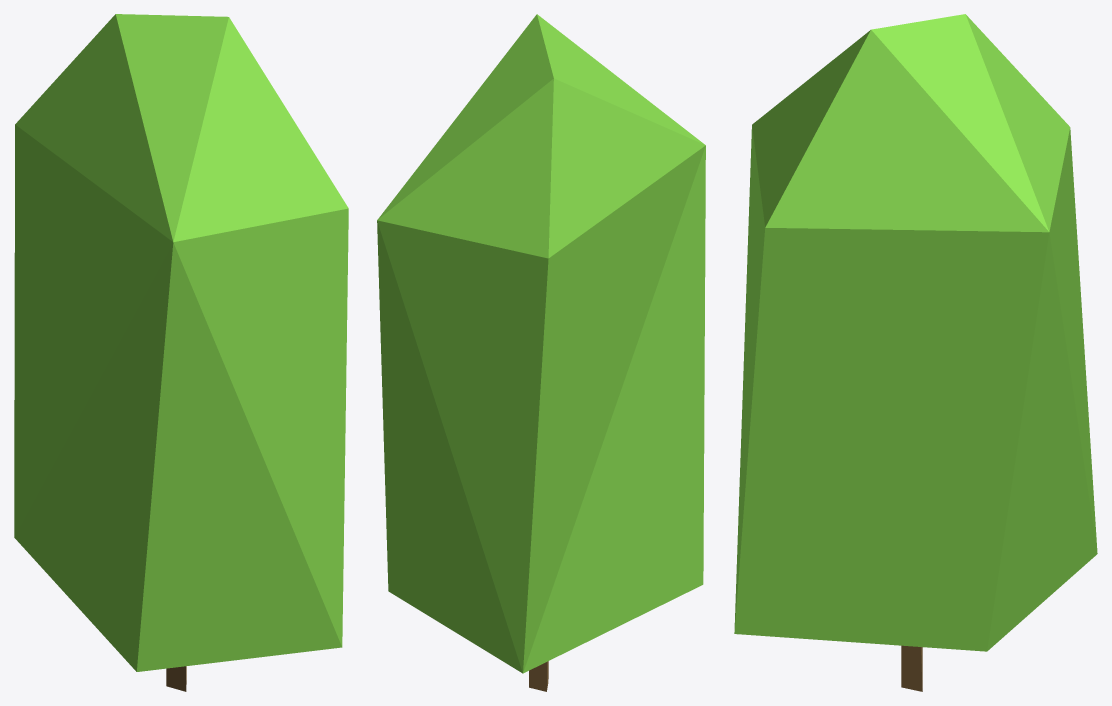
File: Tree01.fbx
3 views of the same model, side by side, from view 1: azimuth 30°, elevation 25°; view 2: azimuth 150°, elevation 25°; view 3: azimuth 270°, elevation 25° (orthographic). The views are drawn at different scales.
Visible parts, largest first — view 1: Cone; view 2: Cone; view 3: Cone, Cube.
Boxes of the visible parts, <box> form: Cone: <box>14,14,348,671</box>; Cone: <box>377,14,705,673</box>; Cone: <box>734,14,1097,651</box>; Cube: <box>901,645,922,691</box>.
Bounding box in the file's own units: 219 × 621 × 305.
